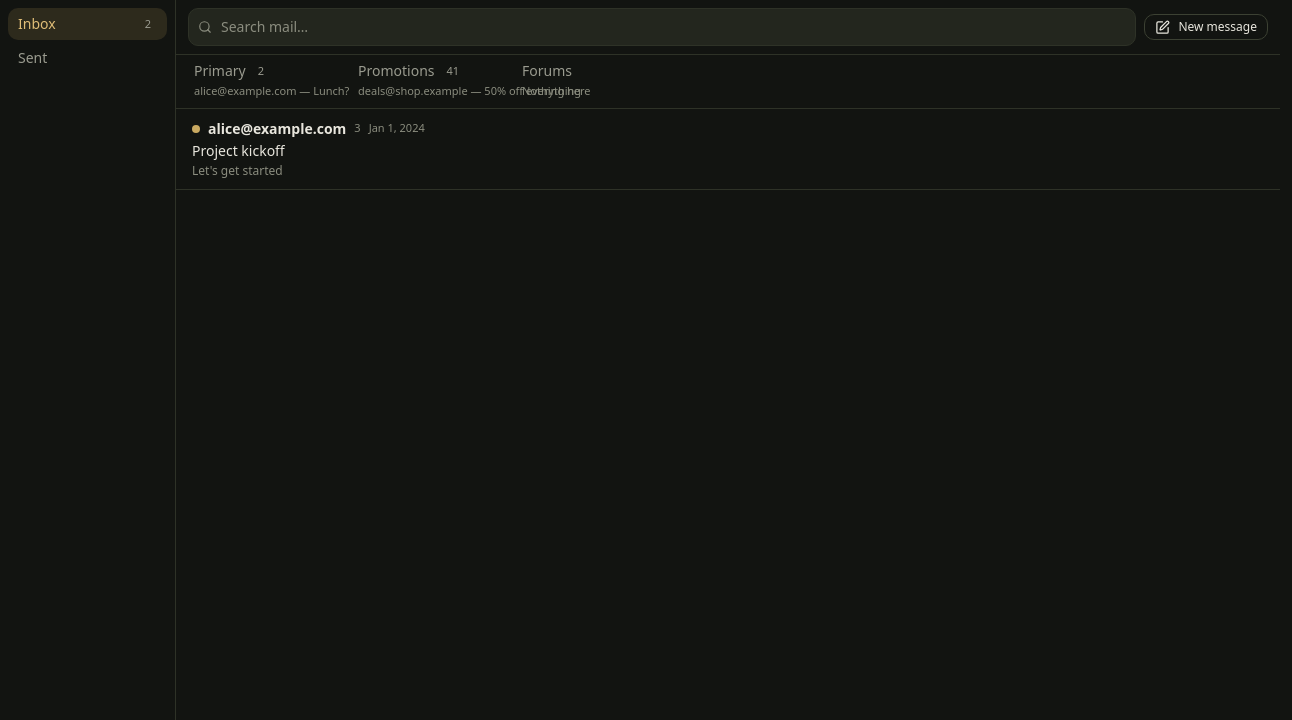
it: updates the active tab's unread count after mark-read, with no full reload
This screenshot has width=1292, height=720.
Expected: the 2nd text "2" is shown, [258,63,264,78]
Click the text "Project kickoff": (238, 150) [192,140,285,160]
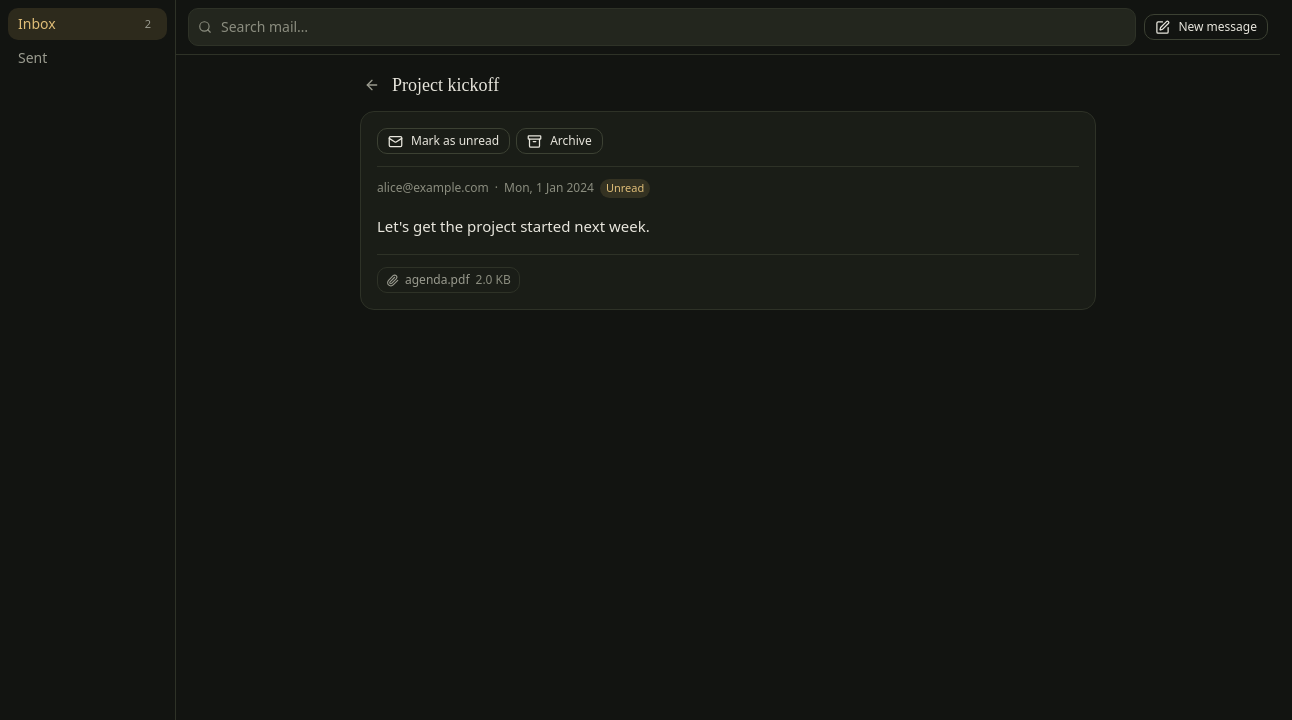
Click the button named "Back to list": (372, 85) [360,73,384,97]
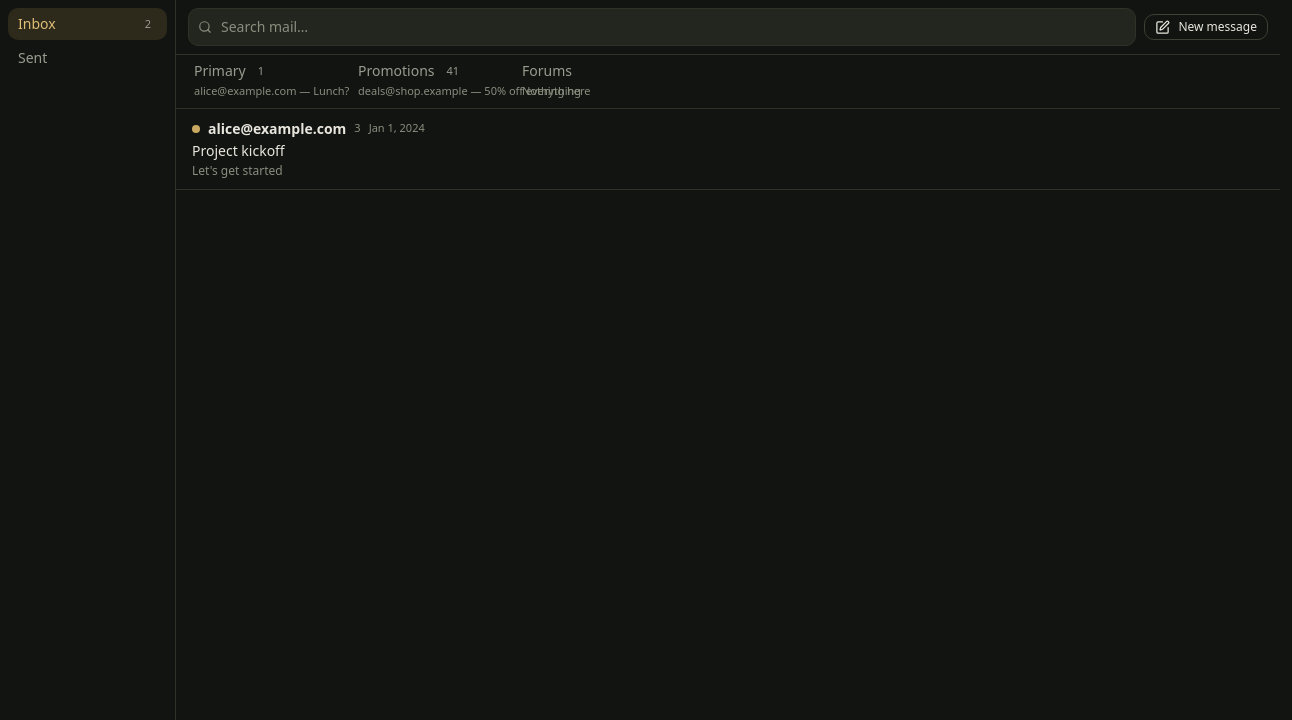
Result: the text "1" is shown at [258,63,264,78]
